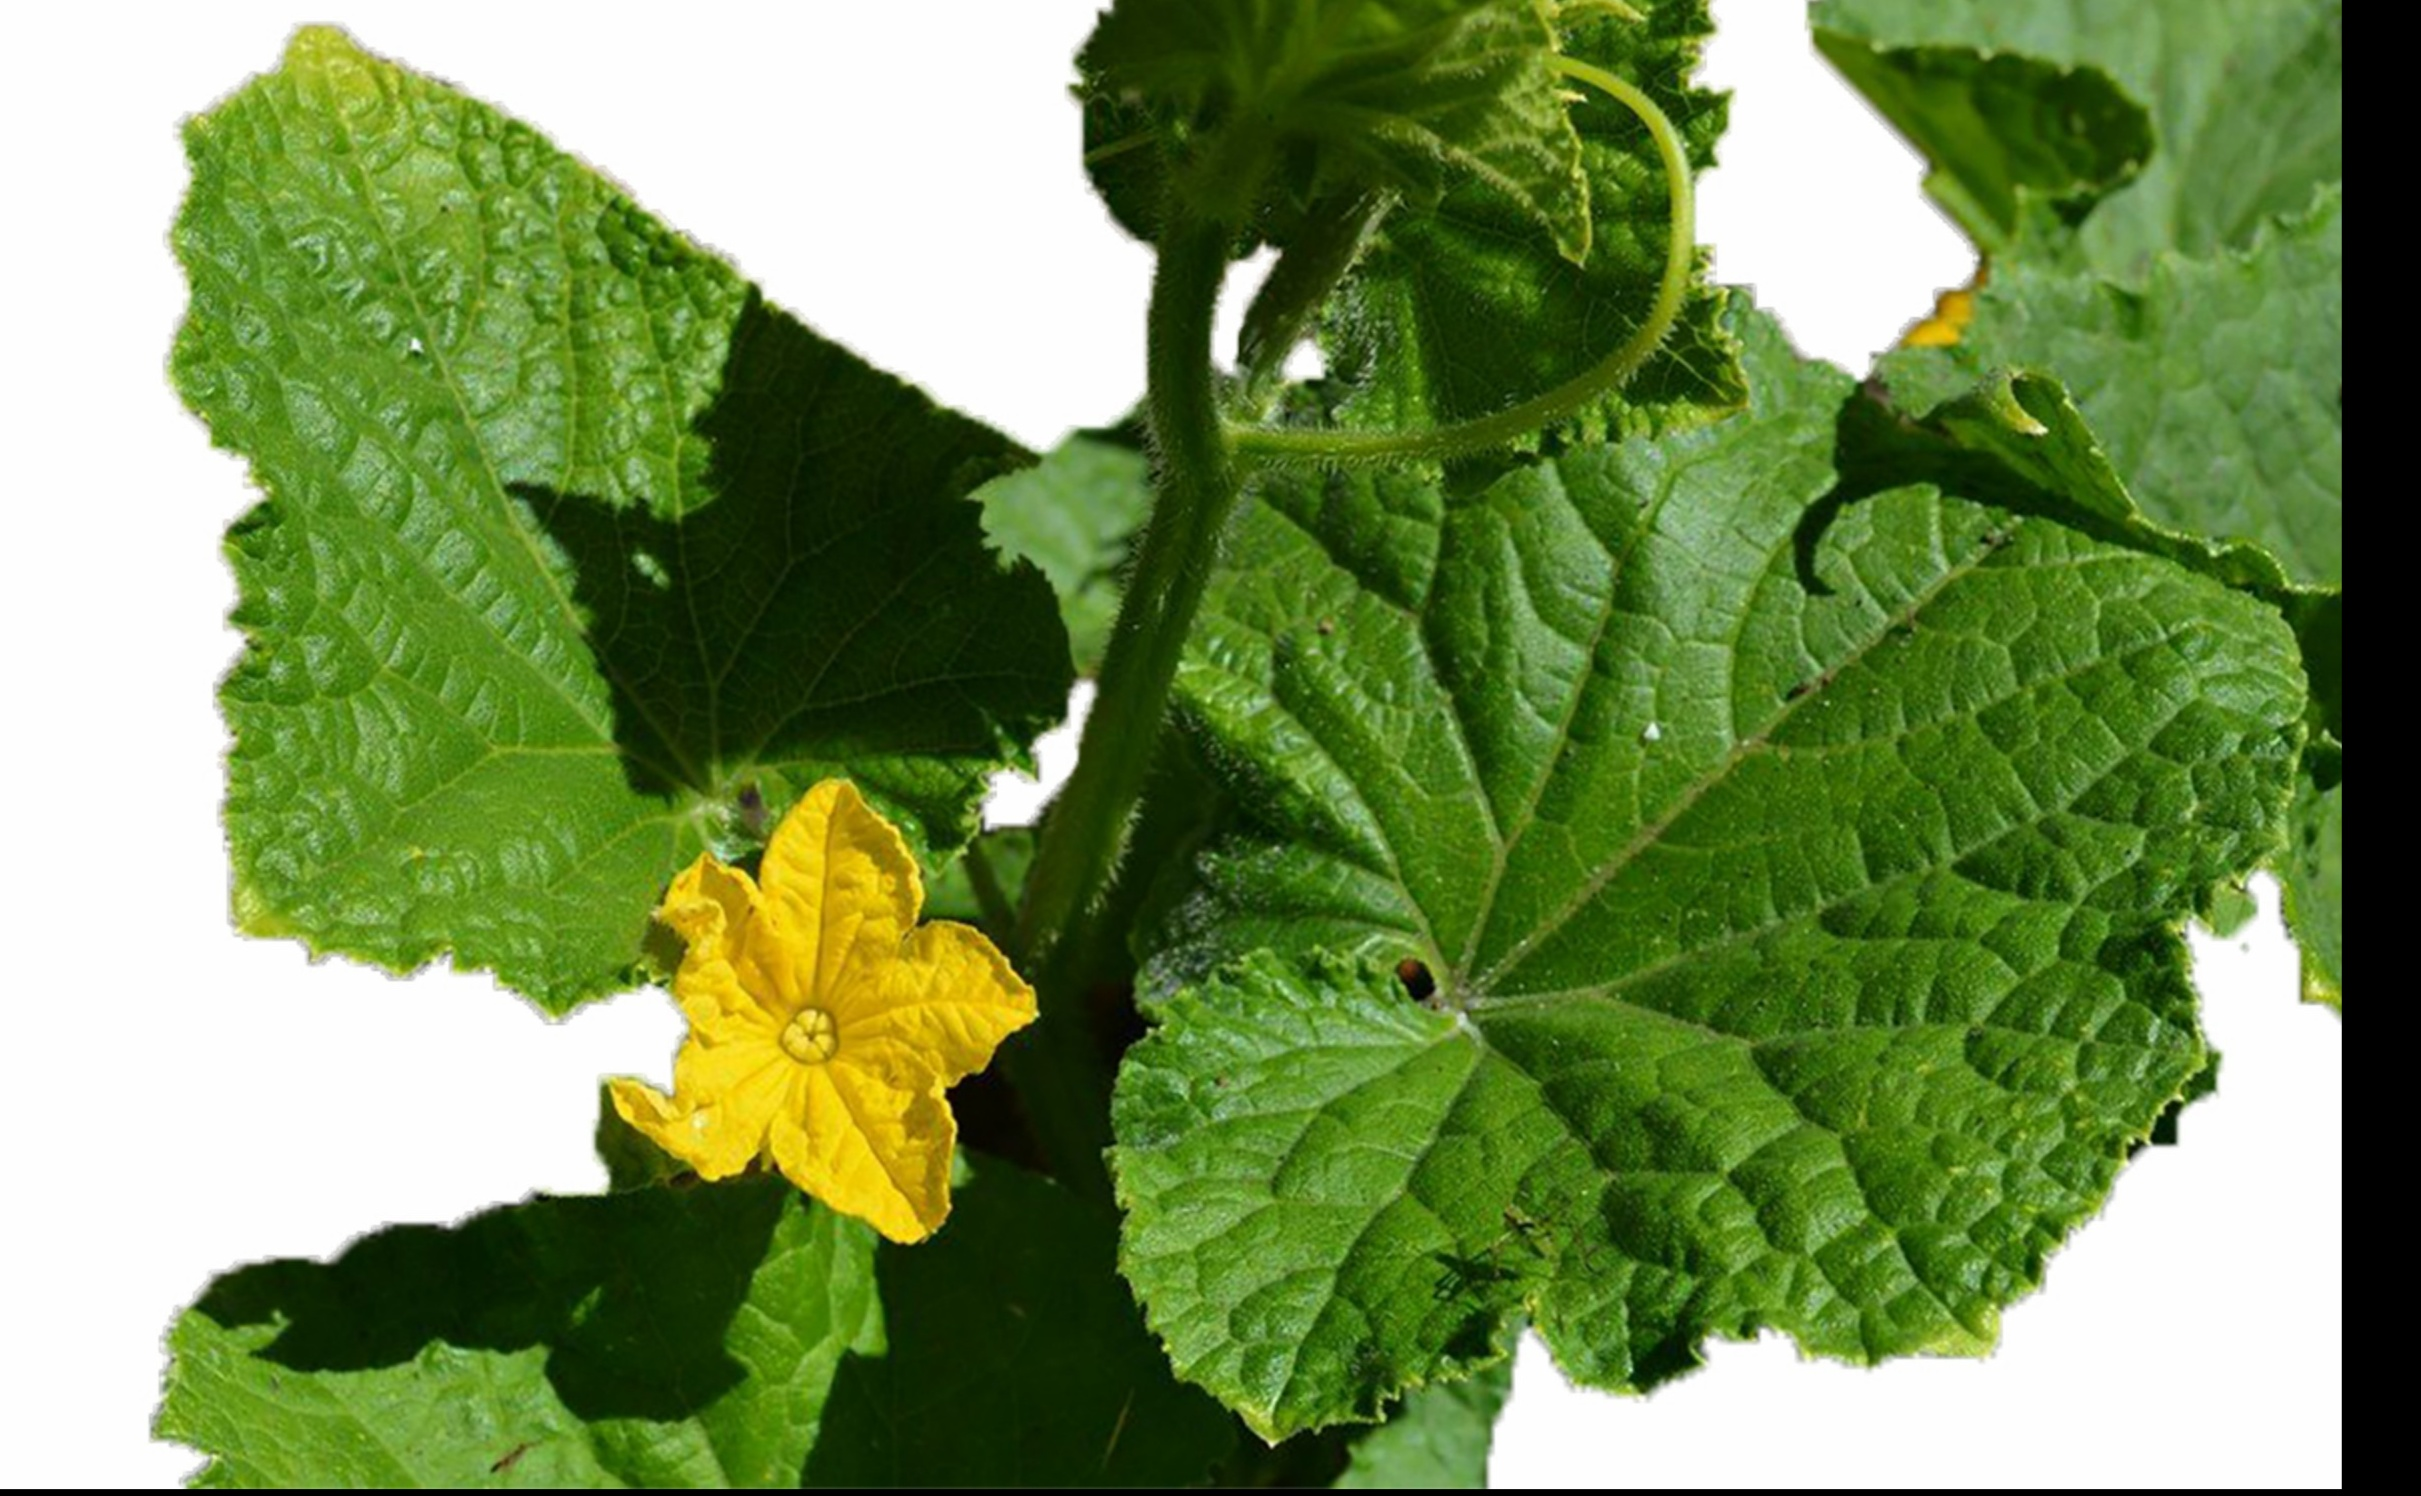cucumber_plant: (161, 16, 2329, 1489)
